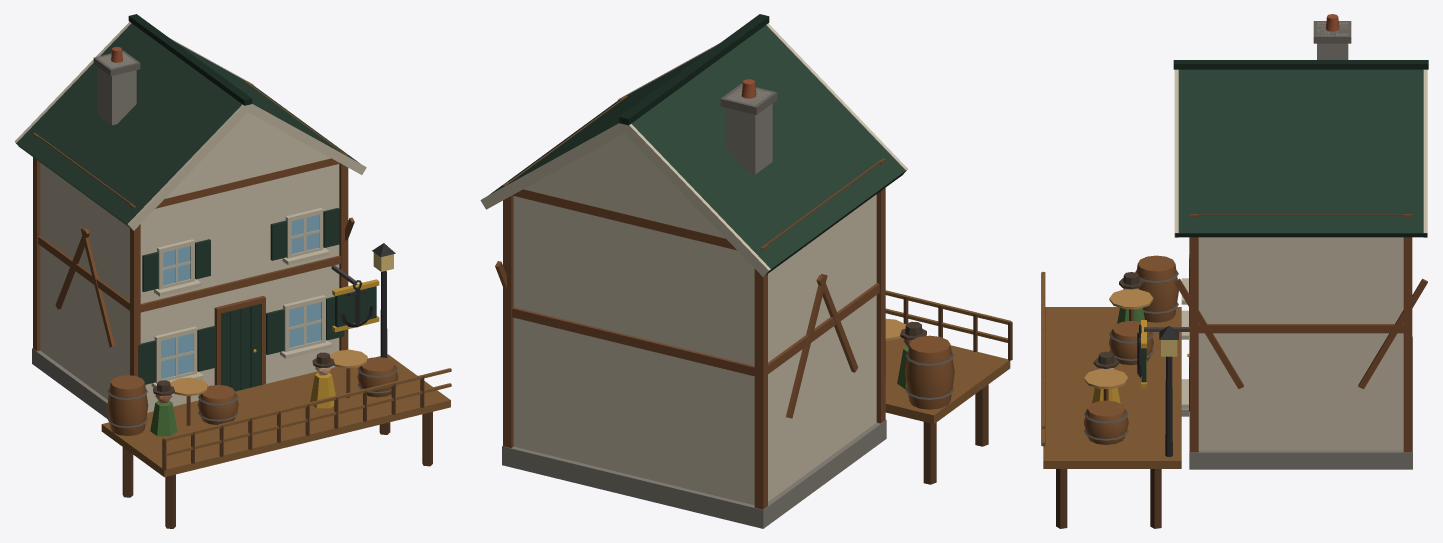
Rendered from harbour_inn.glb.
The picture shows the model from 3 angles, left to right: view 1: azimuth 30°, elevation 25°; view 2: azimuth 150°, elevation 25°; view 3: azimuth 270°, elevation 25°; orthographic projection. The views are drawn at different scales.
Visible parts, largest first — view 1: town-harbour_inn; view 2: town-harbour_inn; view 3: town-harbour_inn.
Part boxes in pixels (x1,y1,x2,y2): town-harbour_inn: (14,14,451,528); town-harbour_inn: (480,14,1012,528); town-harbour_inn: (1041,14,1428,528).
Bounding box in the file's own units: 5.86 × 7.18 × 6.17.
